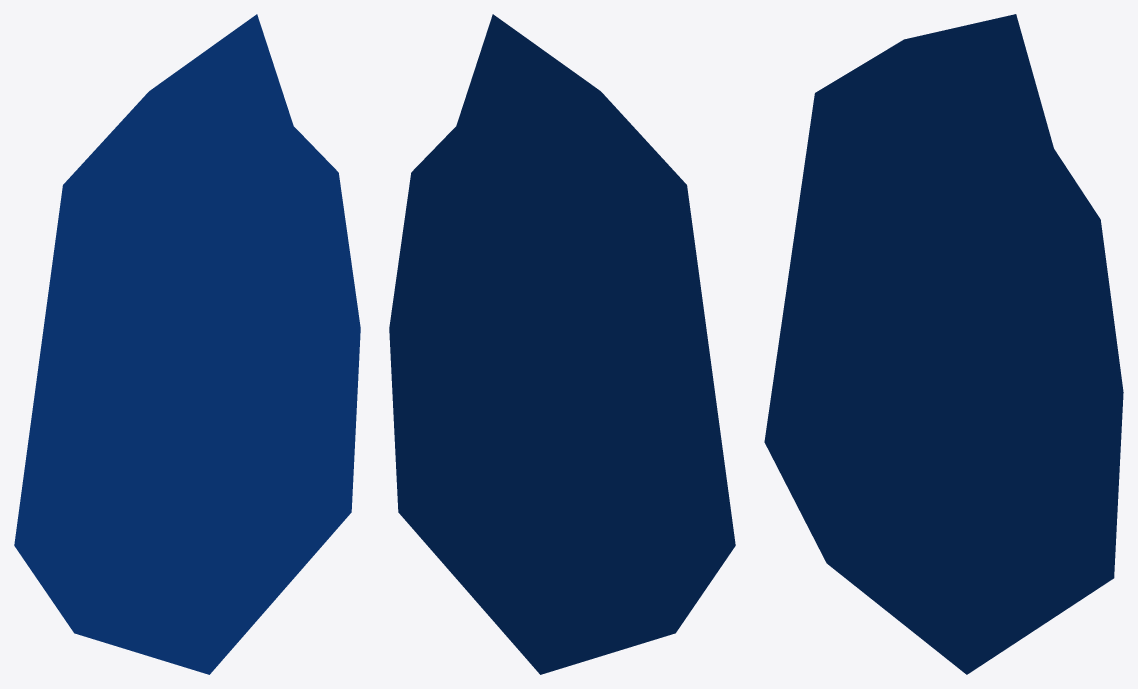
Rendered from SM_FloorDandelion2.fbx.
3 renders of one model, left to right at view 1: azimuth 30°, elevation 25°; view 2: azimuth 150°, elevation 25°; view 3: azimuth 330°, elevation 25°, orthographic. The views are drawn at different scales.
Parts seen in each view (by area): view 1: Plane034; view 2: Plane034; view 3: Plane034.
Boxes of the visible parts, box(x1,y1,x2,y2) form: Plane034: box(14, 14, 360, 674); Plane034: box(389, 14, 735, 674); Plane034: box(764, 14, 1123, 674).
Size of the model in its own units: 29.34 by 52.55 by 2.3e-06.
